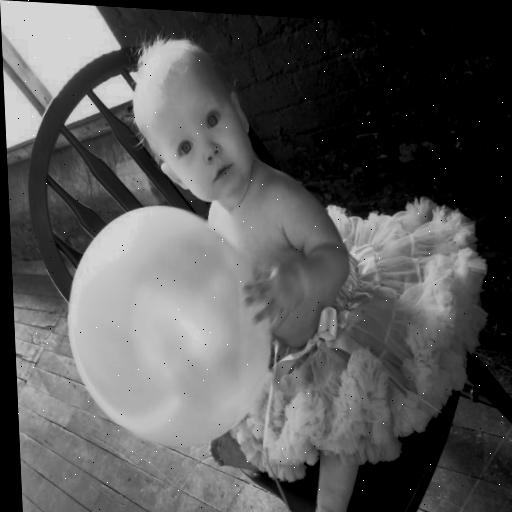balloon: (65, 205, 274, 450)
